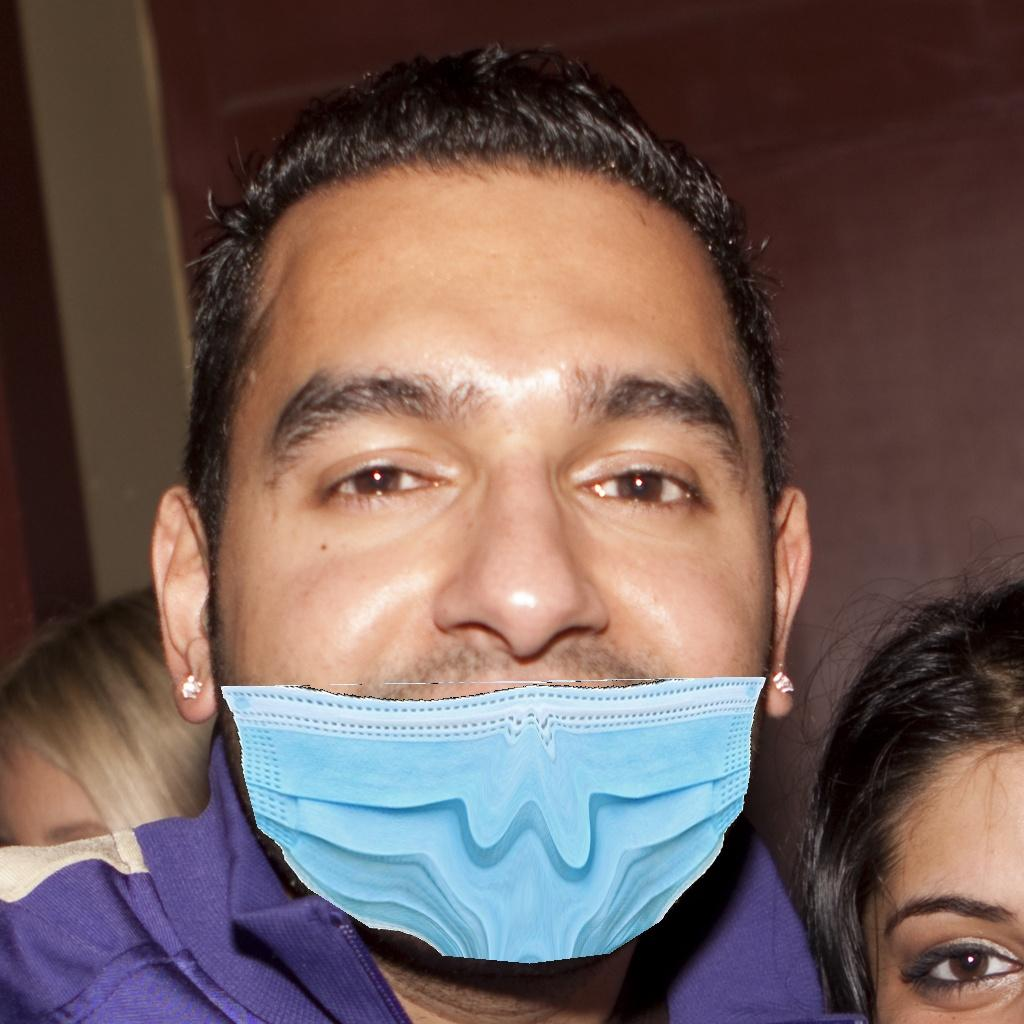Máscara Incorreta: (209, 328, 763, 916)
